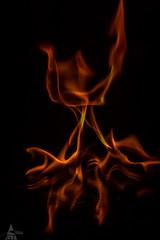fire: (23, 3, 160, 234)
